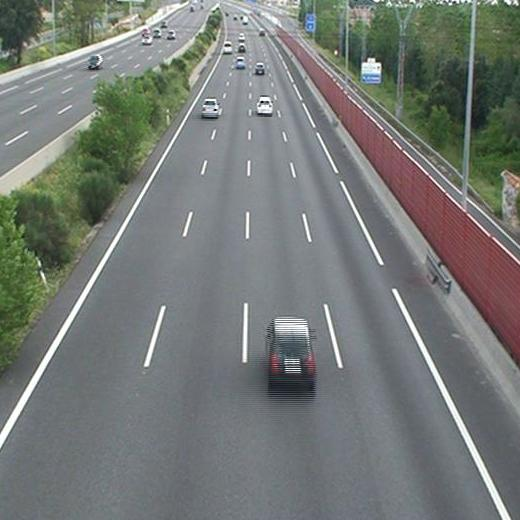car: (268, 318, 314, 379), (201, 99, 218, 117), (257, 97, 271, 116), (254, 62, 265, 74), (235, 57, 245, 68), (237, 43, 245, 53)
van: (223, 42, 232, 55)
